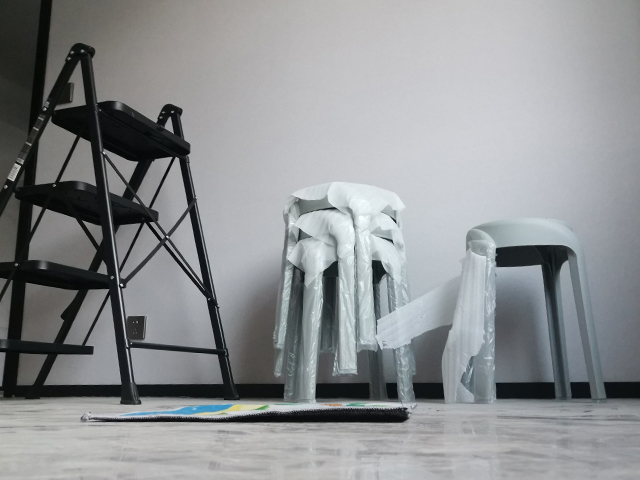carpet: (78, 401, 418, 424)
stool: (269, 179, 420, 404), (460, 217, 609, 404)
